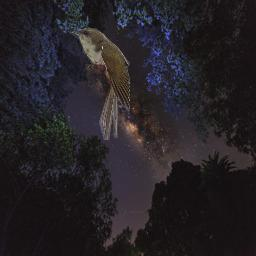Cuckoo: (68, 27, 130, 140)
